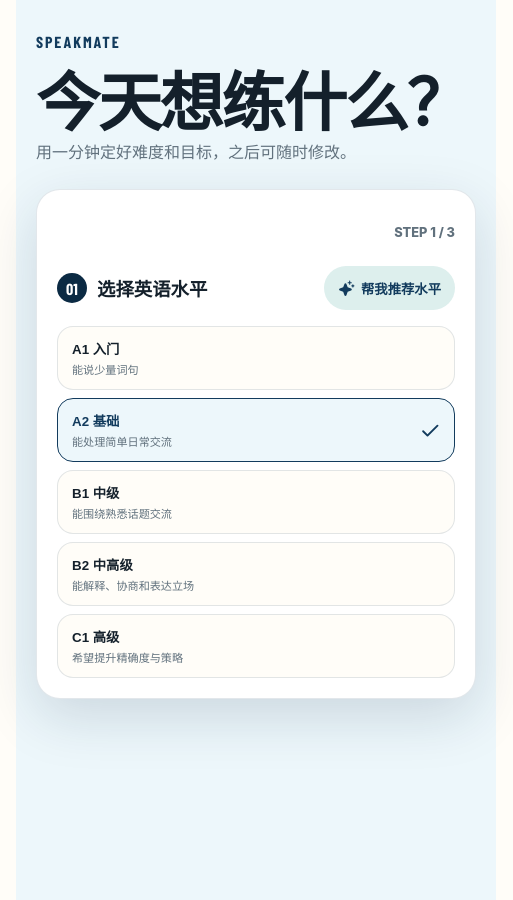
Test: OnboardingFlow › keeps step back inside the flow and exposes selected choices semantically
Click the button "B1 中级 能围绕熟悉话题交流". click: [96, 494]
box: [57,470,455,534]
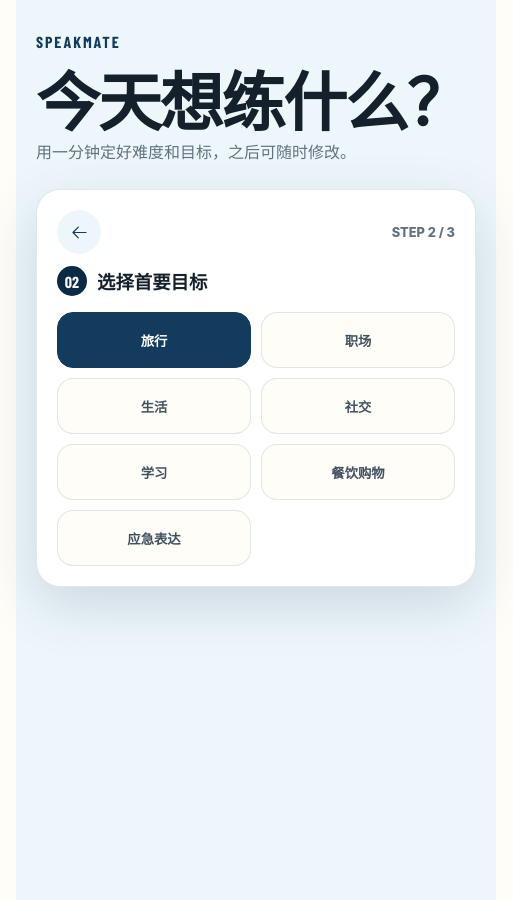
Result: the button named "返回选择英语水平" is shown
Click the button named "返回选择英语水平". click: [79, 232]
box: [57,210,101,254]
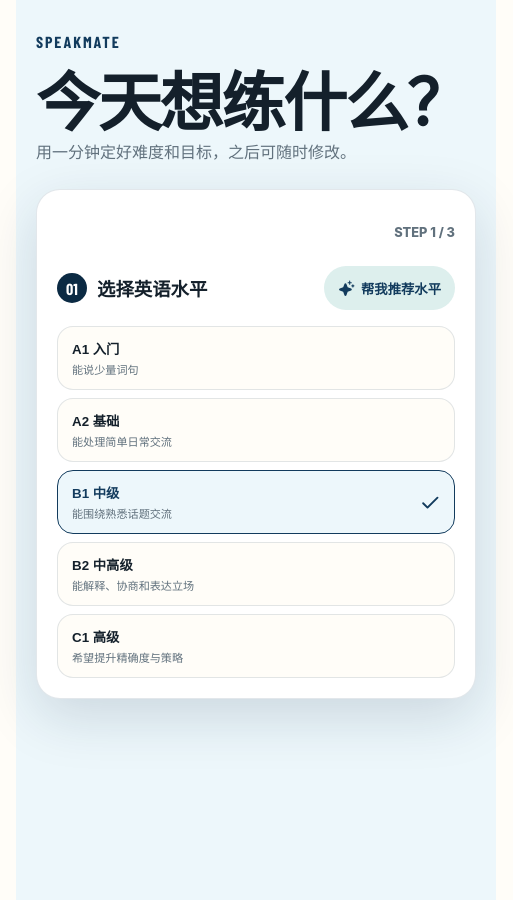
Result: the heading "选择英语水平" is shown at [97,275,207,301]
